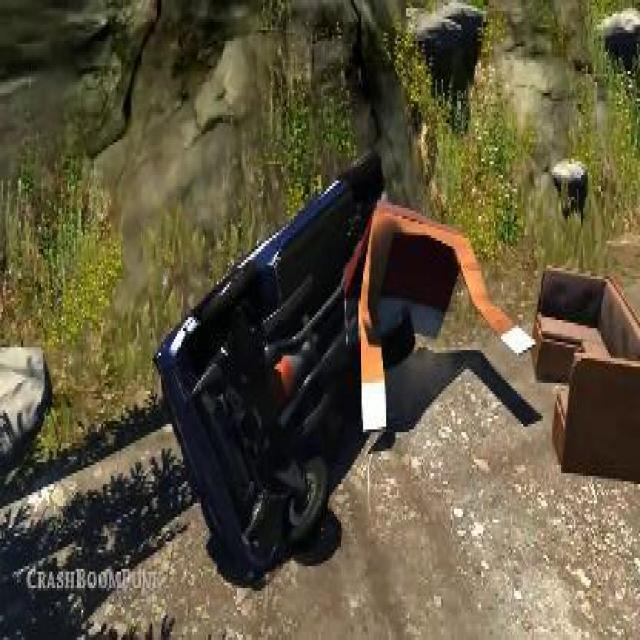accident: (146, 145, 428, 583)
